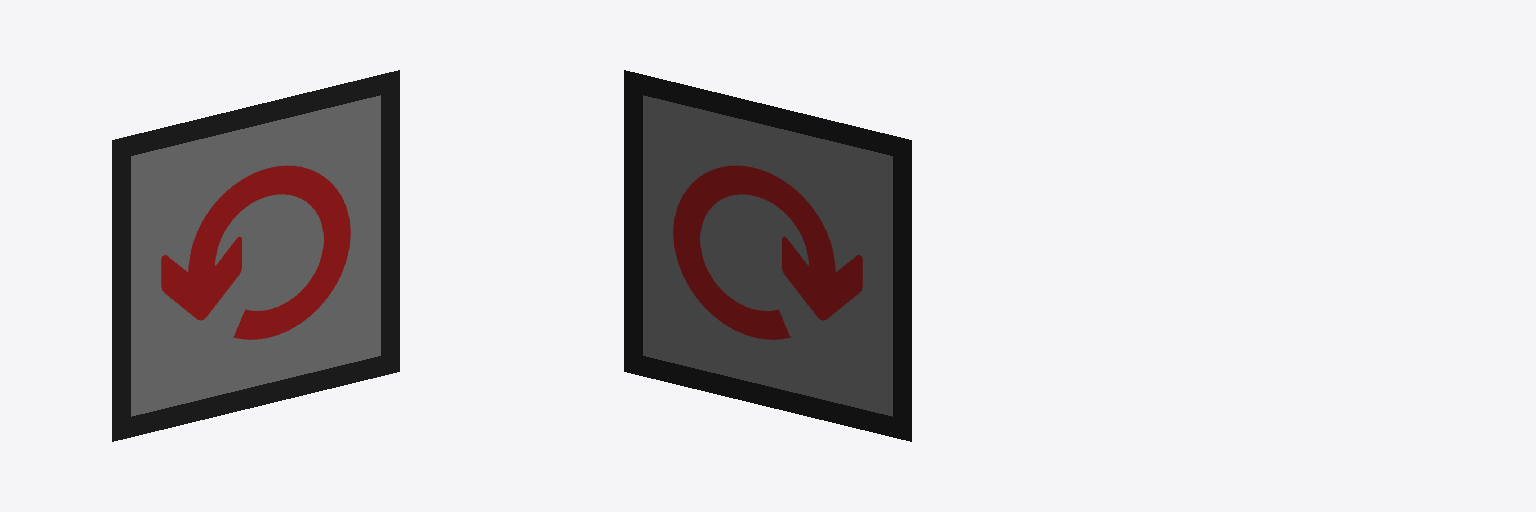
3 renders of one model, left to right at view 1: azimuth 30°, elevation 25°; view 2: azimuth 150°, elevation 25°; view 3: azimuth 270°, elevation 25°, orthographic.
Parts seen in each view (by area): view 1: Floor_Plane; view 2: Floor_Plane; view 3: none.
Part boxes in pixels (x1,y1,x2,y2): Floor_Plane: (112,70,399,441); Floor_Plane: (624,70,911,441).
Bounding box in the file's own units: 2 × 2 × 0.
1 materials, 1 textured.